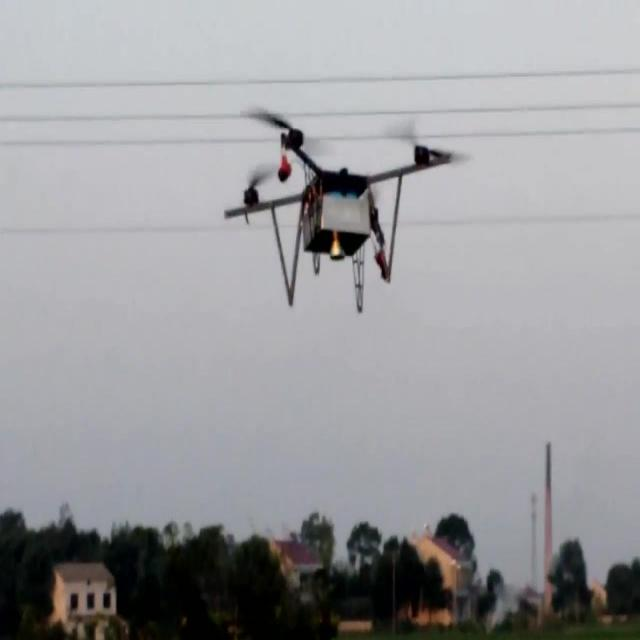UAV: (222, 106, 472, 316)
